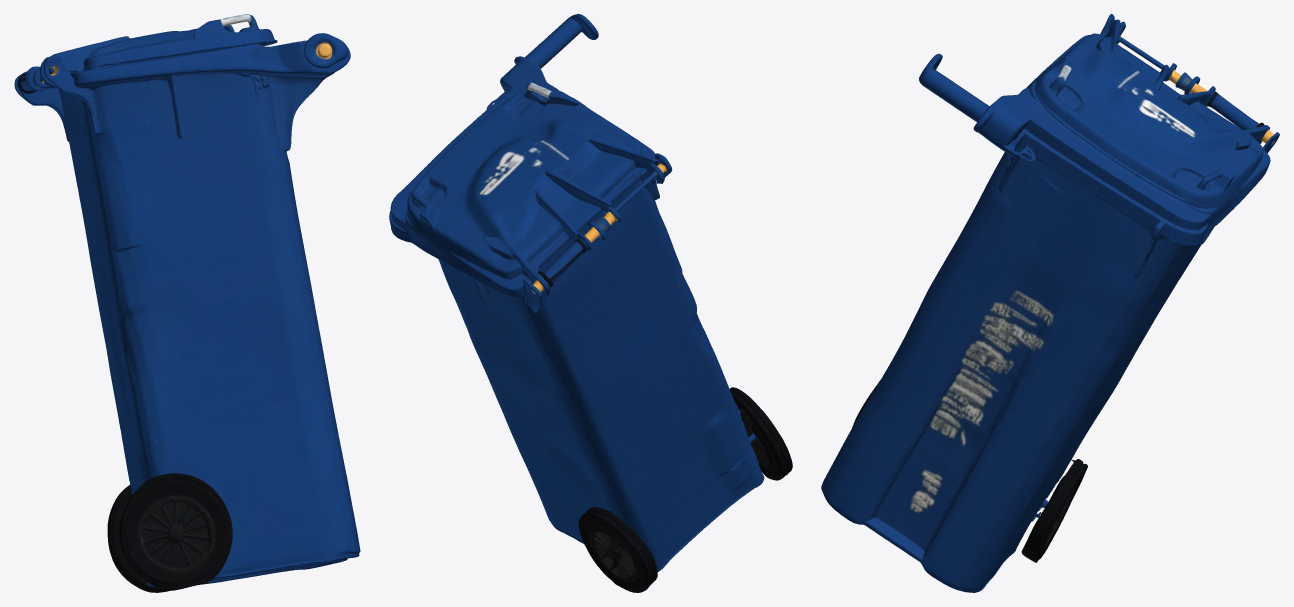
Rendered from pixal3d.glb.
3 renders of one model, left to right at view 1: azimuth 30°, elevation 25°; view 2: azimuth 150°, elevation 25°; view 3: azimuth 270°, elevation 25°, orthographic. The views are drawn at different scales.
Parts seen in each view (by area): view 1: world; view 2: world; view 3: world.
Boxes of the visible parts, left/top/right/bottom form: world: left=14, top=14, right=360, bottom=592; world: left=389, top=14, right=792, bottom=592; world: left=821, top=14, right=1279, bottom=592.
Bounding box in the file's own units: 0.5172 × 0.9315 × 0.7026.
1 material, 1 textured.
